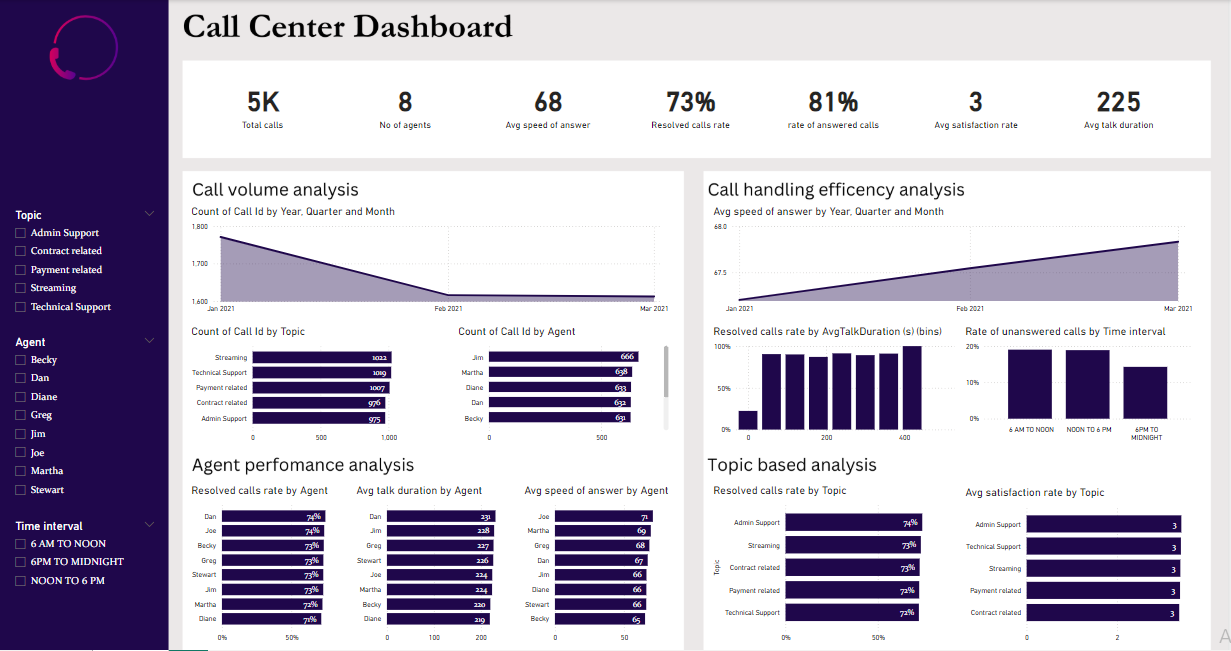

This screenshot's page, from the dashboard's own definition file:
{"tool":"powerbi","page":{"name":"Page 1","canvas":[1920,1080],"ordinal":0},"visuals":[{"type":"areaChart","fields":{"Category":["Call center.Date.Variation.Date Hierarchy.Year","Call center.Date.Variation.Date Hierarchy.Quarter","Call center.Date.Variation.Date Hierarchy.Month","Call center.Date.Variation.Date Hierarchy.Day"],"Y":["Call center.Call Id"]},"box":[294.1,330.6,756,176.1],"z":7000},{"type":"barChart","fields":{"Category":["Call center.Topic"],"Y":["Call center.Call Id"]},"box":[294.1,518.4,378.8,189.4],"z":8000},{"type":"barChart","fields":{"Category":["Call center.Agent"],"Y":["Call center.Call Id"]},"box":[711.1,518.4,339,189.4],"z":9000},{"type":"barChart","fields":{"Y":["Measures table.Resolved calls rate"],"Category":["Call center.Topic"]},"box":[1109.9,767.6,375.5,254.2],"z":10000},{"type":"barChart","fields":{"Category":["Call center.Topic"],"Y":["Measures table.Avg satisfaction rate"]},"box":[1503.7,771,365.5,250.9],"z":11000},{"type":"barChart","fields":{"Category":["Call center.Agent"],"Y":["Measures table.Avg speed of answer"]},"box":[814.2,767.6,235.9,254.2],"z":12000},{"type":"barChart","fields":{"Category":["Call center.Agent"],"Y":["Measures table.avg talk duration"]},"box":[551.6,767.6,262.5,254.2],"z":13000},{"type":"barChart","fields":{"Y":["Measures table.Resolved calls rate"],"Category":["Call center.Agent"]},"box":[294.1,767.6,257.5,254.2],"z":14000},{"type":"areaChart","fields":{"Category":["Call center.Date.Variation.Date Hierarchy.Year","Call center.Date.Variation.Date Hierarchy.Quarter","Call center.Date.Variation.Date Hierarchy.Month","Call center.Date.Variation.Date Hierarchy.Day"],"Y":["Measures table.Avg speed of answer"]},"box":[1109.4,331.2,759.4,175],"z":16000},{"type":"columnChart","fields":{"Category":["Call center.AvgTalkDuration (s) (bins)"],"Y":["Measures table.Resolved calls rate"]},"box":[1109.9,518.4,387.1,189.4],"z":17000},{"type":"columnChart","fields":{"Category":["Call center.Time interval"],"Y":["Measures table.Rate of unanswered calls"]},"box":[1503.7,518.4,365.5,189.4],"z":18000},{"type":"cardVisual","fields":{"Data":["Measures table.Total calls","Measures table.No of agents","Measures table.Avg speed of answer","Measures table.Resolved calls rate","Measures table.rate of answered calls","Measures table.Avg satisfaction rate","Measures table.avg talk duration"]},"box":[293.8,112.5,1575,134.4],"z":18001},{"type":"slicer","fields":{"Values":["Call center.Agent"]},"box":[11.6,530,242.6,267.5],"z":18002},{"type":"slicer","fields":{"Values":["Call center.Time interval"]},"box":[11.6,817.5,242.6,129.6],"z":18003},{"type":"slicer","fields":{"Values":["Call center.Topic"]},"box":[11.6,330.6,242.6,187.8],"z":18004}]}

Visuals, with their boxes on the page's 1920x1080 design canvas (x1, y1, x2, y2). These are canvas units, not pixel positions in the 1231x651 screenshot, which may show the page scaled, cropped or inside an application window:
areaChart - Call center.Date.Variation.Date Hierarchy.Year x Call center.Date.Variation.Date Hierarchy.Quarter: x1=294 y1=331 x2=1050 y2=507
barChart - Call center.Topic x Call center.Call Id: x1=294 y1=518 x2=673 y2=708
barChart - Call center.Agent x Call center.Call Id: x1=711 y1=518 x2=1050 y2=708
barChart - Measures table.Resolved calls rate x Call center.Topic: x1=1110 y1=768 x2=1485 y2=1022
barChart - Call center.Topic x Measures table.Avg satisfaction rate: x1=1504 y1=771 x2=1869 y2=1022
barChart - Call center.Agent x Measures table.Avg speed of answer: x1=814 y1=768 x2=1050 y2=1022
barChart - Call center.Agent x Measures table.avg talk duration: x1=552 y1=768 x2=814 y2=1022
barChart - Measures table.Resolved calls rate x Call center.Agent: x1=294 y1=768 x2=552 y2=1022
areaChart - Call center.Date.Variation.Date Hierarchy.Year x Call center.Date.Variation.Date Hierarchy.Quarter: x1=1109 y1=331 x2=1869 y2=506
columnChart - Call center.AvgTalkDuration (s) (bins) x Measures table.Resolved calls rate: x1=1110 y1=518 x2=1497 y2=708
columnChart - Call center.Time interval x Measures table.Rate of unanswered calls: x1=1504 y1=518 x2=1869 y2=708
cardVisual - Measures table.Total calls x Measures table.No of agents: x1=294 y1=112 x2=1869 y2=247
slicer - Call center.Agent: x1=12 y1=530 x2=254 y2=798
slicer - Call center.Time interval: x1=12 y1=818 x2=254 y2=947
slicer - Call center.Topic: x1=12 y1=331 x2=254 y2=518
